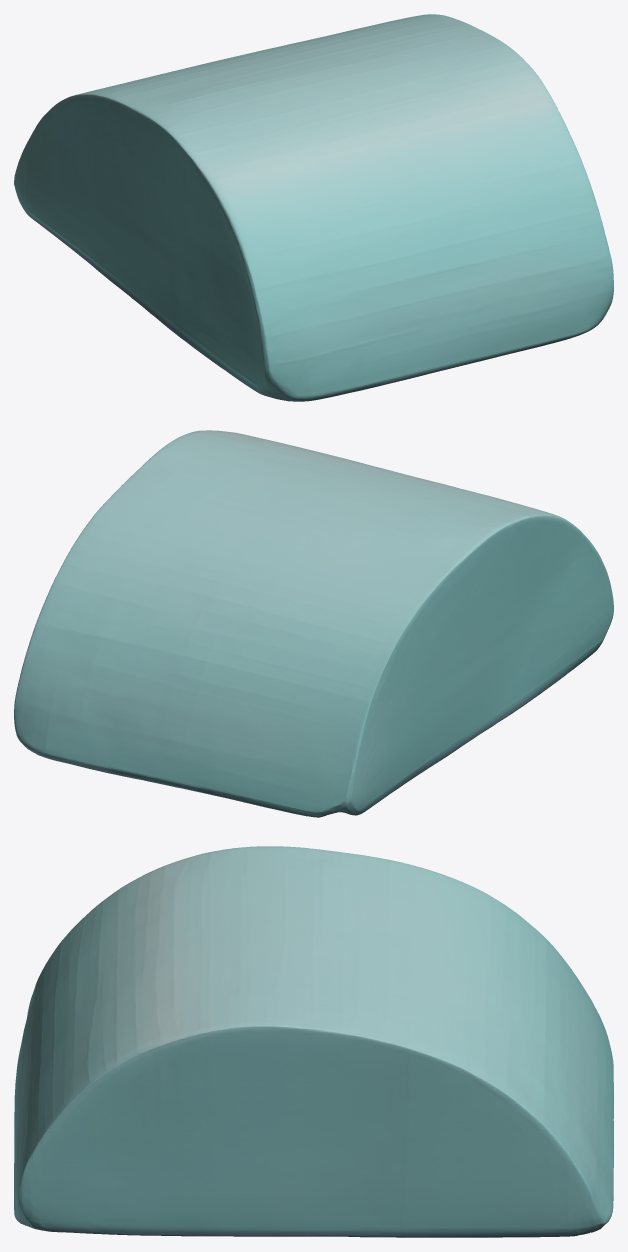
Rendered from obj3_sam3d_obb.glb.
3 renders of one model, top to bottom at view 1: azimuth 30°, elevation 25°; view 2: azimuth 150°, elevation 25°; view 3: azimuth 270°, elevation 25°, orthographic. The views are drawn at different scales.
Visible parts, largest first — view 1: world; view 2: world; view 3: world.
Part boxes in pixels (<box>): world: <box>14,14,613,401</box>; world: <box>14,430,613,817</box>; world: <box>14,846,613,1237</box>.
Size of the model in its own units: 0.0315 by 0.017 by 0.0422.
